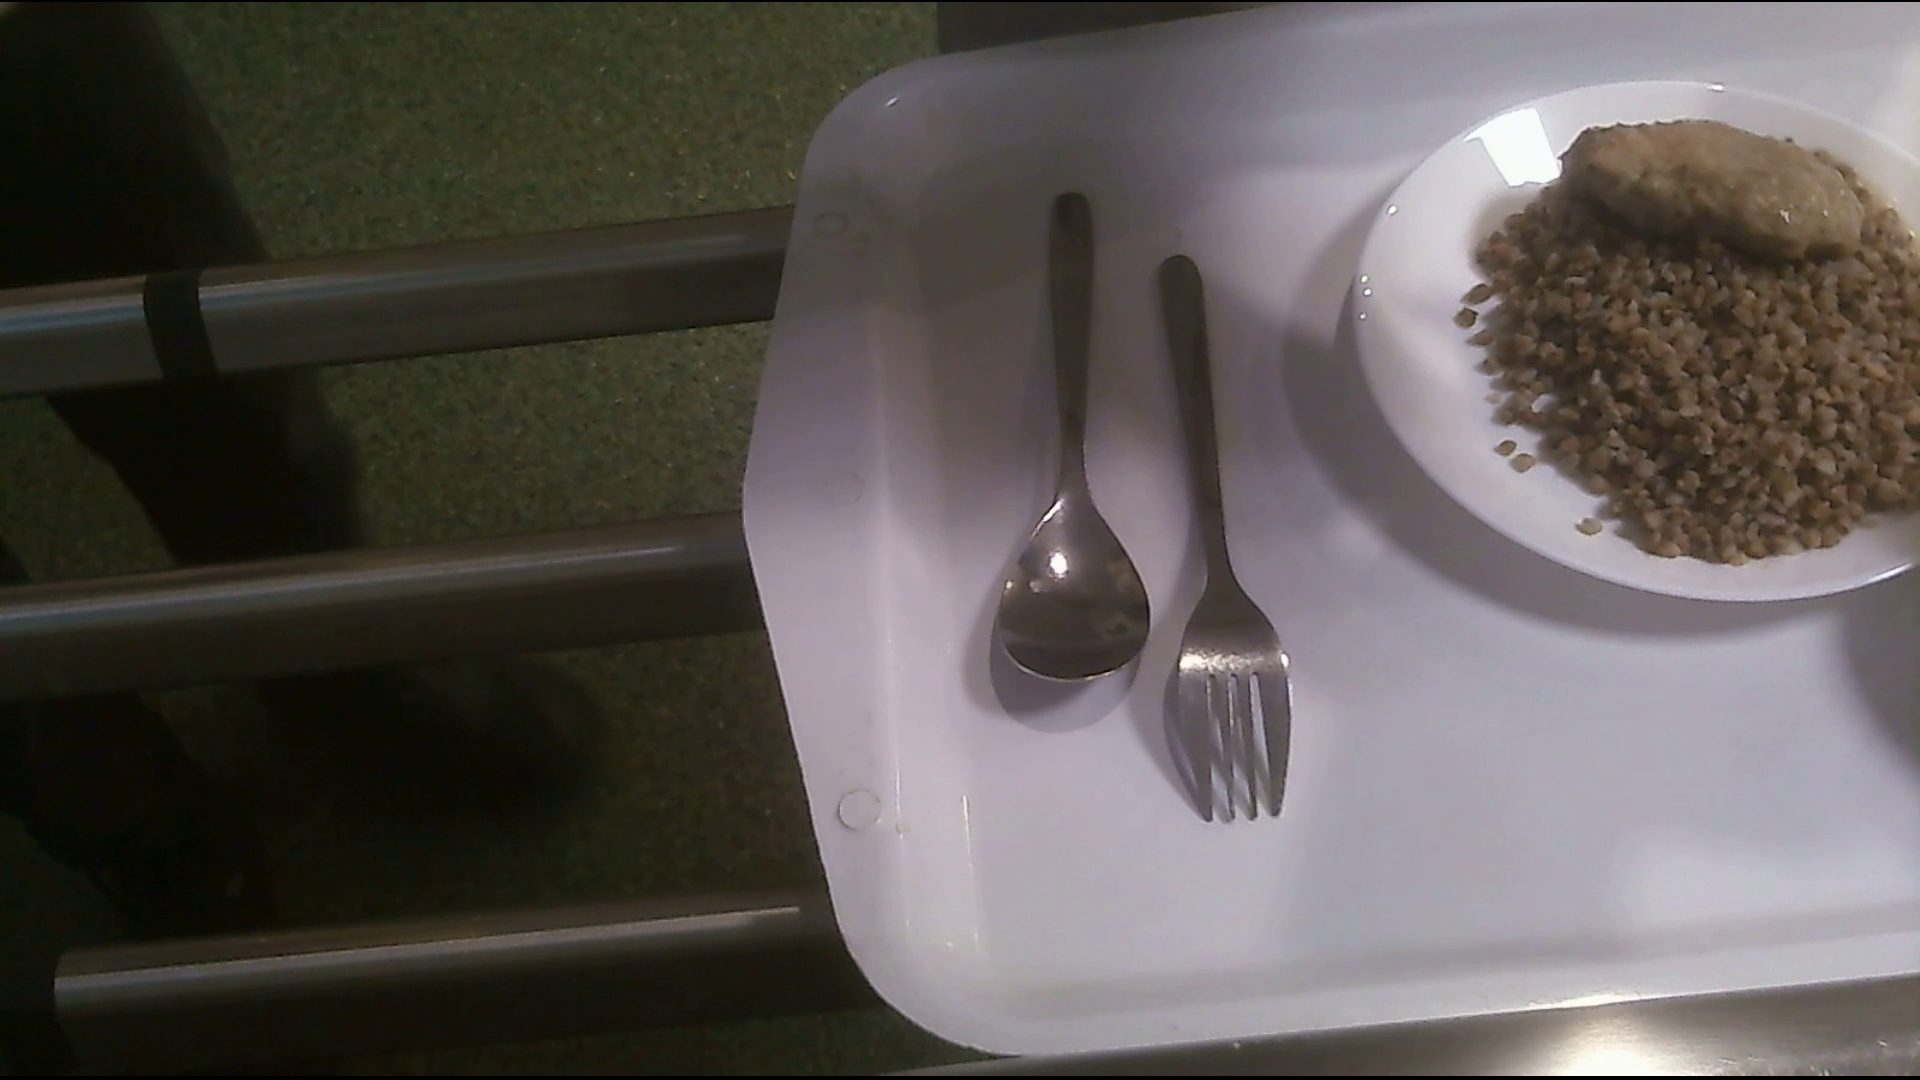cutlery: (1154, 256, 1294, 827), (1007, 182, 1150, 694)
plate: (1353, 80, 1920, 601)
